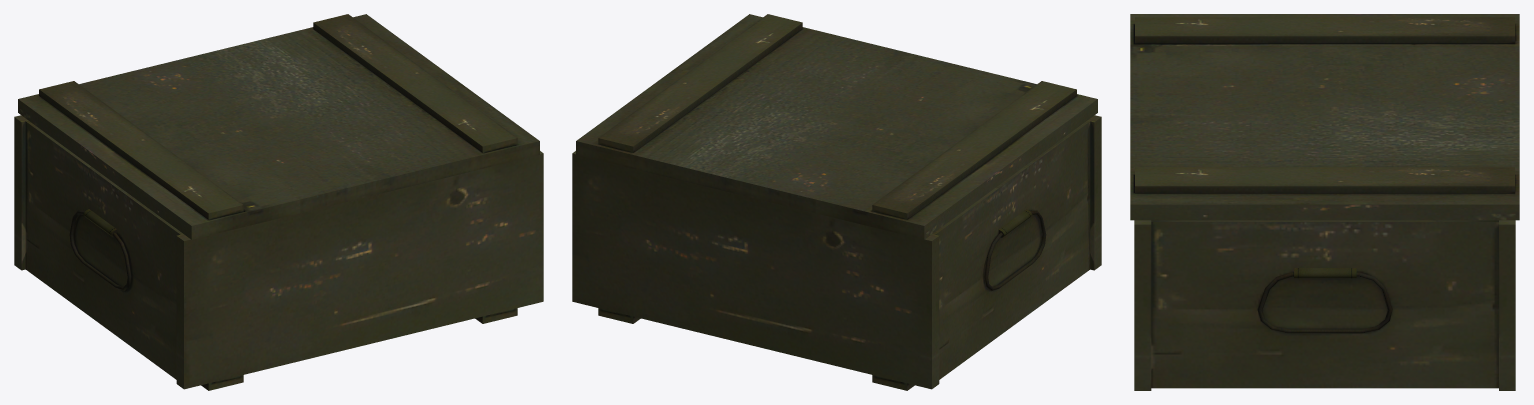
Rendered from crate2.fbx.
The picture shows the model from 3 angles, left to right: view 1: azimuth 30°, elevation 25°; view 2: azimuth 150°, elevation 25°; view 3: azimuth 270°, elevation 25°; orthographic projection. The views are drawn at different scales.
Parts seen in each view (by area): view 1: supply_crate03_reference; view 2: supply_crate03_reference; view 3: supply_crate03_reference.
Boxes of the visible parts, x1,y1,x2,y2 form: supply_crate03_reference: [14, 14, 543, 390]; supply_crate03_reference: [572, 14, 1101, 390]; supply_crate03_reference: [1130, 14, 1519, 390].
Bounding box in the file's own units: 2662 × 1245 × 2205.
